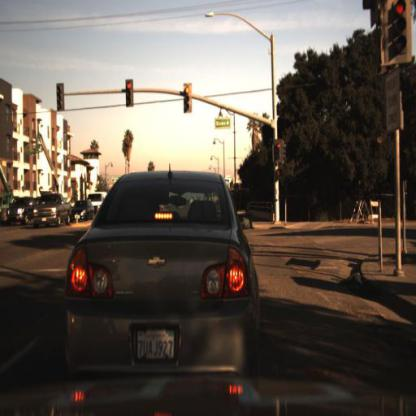car: (63, 170, 262, 390), (30, 191, 70, 229), (6, 195, 42, 235), (83, 189, 111, 221), (66, 199, 95, 226)
trafficLight: (184, 82, 194, 116), (56, 84, 65, 111)
trafficLight-Red: (383, 2, 414, 65), (388, 1, 406, 56), (274, 140, 285, 165), (126, 79, 135, 109), (277, 139, 282, 155)
